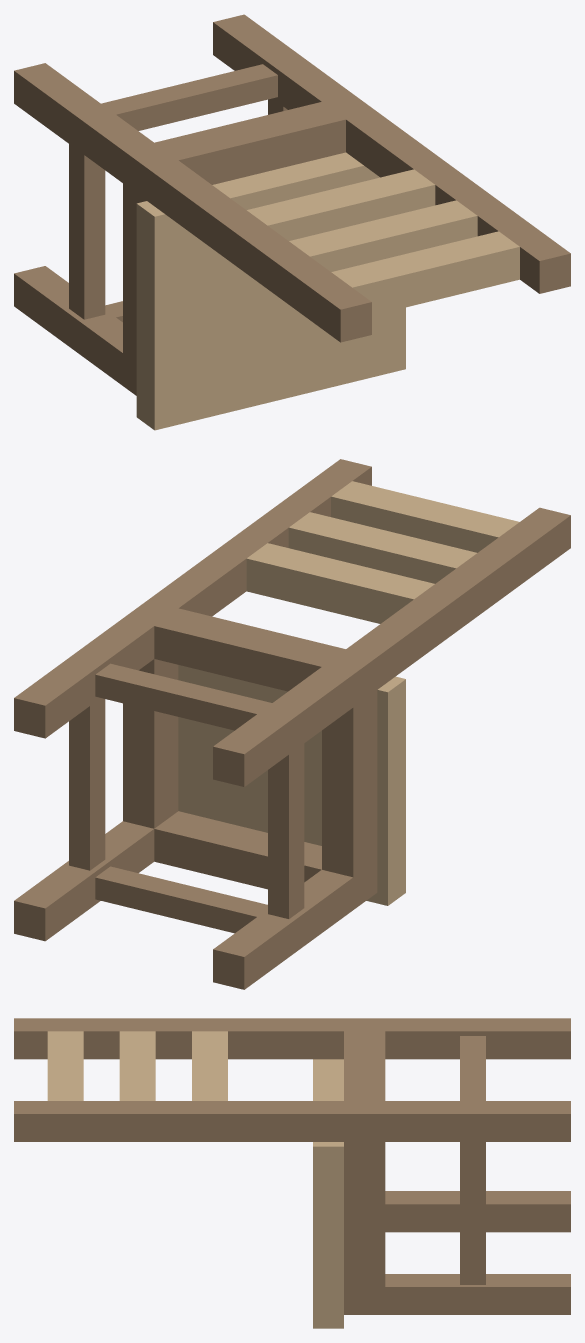
Rendered from Chair.glb.
3 views of the same model, one above another, from view 1: azimuth 30°, elevation 25°; view 2: azimuth 150°, elevation 25°; view 3: azimuth 270°, elevation 25° (orthographic). The views are drawn at different scales.
Visible parts, largest first — view 1: FTF_Interior_DiningChair_LadderBack_v2_Seat, FTF_Interior_DiningChair_LadderBack_v2_RearPostL, FTF_Interior_DiningChair_LadderBack_v2_RearPostR, FTF_Interior_DiningChair_LadderBack_v2_ApronBack, FTF_Interior_DiningChair_LadderBack_v2_BackSlatTop, FTF_Interior_DiningChair_LadderBack_v2_BackSlatLow, FTF_Interior_DiningChair_LadderBack_v2_BackSlatMid, FTF_Interior_DiningChair_LadderBack_v2_FrontLegL, FTF_Interior_DiningChair_LadderBack_v2_StretcherLeft, FTF_Interior_DiningChair_LadderBack_v2_StretcherBack, FTF_Interior_DiningChair_LadderBack_v2_ApronLeft; view 2: FTF_Interior_DiningChair_LadderBack_v2_RearPostL, FTF_Interior_DiningChair_LadderBack_v2_RearPostR, FTF_Interior_DiningChair_LadderBack_v2_Seat, FTF_Interior_DiningChair_LadderBack_v2_ApronLeft, FTF_Interior_DiningChair_LadderBack_v2_ApronBack, FTF_Interior_DiningChair_LadderBack_v2_BackSlatLow, FTF_Interior_DiningChair_LadderBack_v2_FrontLegL, FTF_Interior_DiningChair_LadderBack_v2_ApronRight, FTF_Interior_DiningChair_LadderBack_v2_BackSlatMid, FTF_Interior_DiningChair_LadderBack_v2_BackSlatTop, FTF_Interior_DiningChair_LadderBack_v2_ApronFront, FTF_Interior_DiningChair_LadderBack_v2_FrontLegR (+4 smaller); view 3: FTF_Interior_DiningChair_LadderBack_v2_RearPostR, FTF_Interior_DiningChair_LadderBack_v2_RearPostL, FTF_Interior_DiningChair_LadderBack_v2_FrontLegR, FTF_Interior_DiningChair_LadderBack_v2_Seat, FTF_Interior_DiningChair_LadderBack_v2_FrontLegL, FTF_Interior_DiningChair_LadderBack_v2_ApronRight, FTF_Interior_DiningChair_LadderBack_v2_StretcherRight, FTF_Interior_DiningChair_LadderBack_v2_ApronBack, FTF_Interior_DiningChair_LadderBack_v2_BackSlatMid, FTF_Interior_DiningChair_LadderBack_v2_BackSlatTop, FTF_Interior_DiningChair_LadderBack_v2_BackSlatLow, FTF_Interior_DiningChair_LadderBack_v2_StretcherBack.
Boxes of the visible parts, left/top/right/bottom form: FTF_Interior_DiningChair_LadderBack_v2_Seat: left=136, top=152, right=405, bottom=430; FTF_Interior_DiningChair_LadderBack_v2_RearPostL: left=14, top=63, right=371, bottom=342; FTF_Interior_DiningChair_LadderBack_v2_RearPostR: left=213, top=14, right=570, bottom=293; FTF_Interior_DiningChair_LadderBack_v2_ApronBack: left=154, top=102, right=345, bottom=184; FTF_Interior_DiningChair_LadderBack_v2_BackSlatTop: left=331, top=231, right=519, bottom=315; FTF_Interior_DiningChair_LadderBack_v2_BackSlatLow: left=247, top=169, right=435, bottom=240; FTF_Interior_DiningChair_LadderBack_v2_BackSlatMid: left=289, top=200, right=477, bottom=271; FTF_Interior_DiningChair_LadderBack_v2_FrontLegL: left=14, top=266, right=136, bottom=395; FTF_Interior_DiningChair_LadderBack_v2_StretcherLeft: left=69, top=144, right=105, bottom=319; FTF_Interior_DiningChair_LadderBack_v2_StretcherBack: left=101, top=64, right=277, bottom=130; FTF_Interior_DiningChair_LadderBack_v2_ApronLeft: left=123, top=183, right=146, bottom=362; FTF_Interior_DiningChair_LadderBack_v2_RearPostL: left=213, top=507, right=570, bottom=786; FTF_Interior_DiningChair_LadderBack_v2_RearPostR: left=14, top=459, right=371, bottom=738; FTF_Interior_DiningChair_LadderBack_v2_Seat: left=178, top=665, right=405, bottom=905; FTF_Interior_DiningChair_LadderBack_v2_ApronLeft: left=322, top=690, right=377, bottom=877; FTF_Interior_DiningChair_LadderBack_v2_ApronBack: left=154, top=608, right=345, bottom=691; FTF_Interior_DiningChair_LadderBack_v2_BackSlatLow: left=246, top=543, right=434, bottom=623; FTF_Interior_DiningChair_LadderBack_v2_FrontLegL: left=213, top=860, right=377, bottom=989; FTF_Interior_DiningChair_LadderBack_v2_ApronRight: left=123, top=659, right=178, bottom=828; FTF_Interior_DiningChair_LadderBack_v2_BackSlatMid: left=288, top=512, right=476, bottom=583; FTF_Interior_DiningChair_LadderBack_v2_BackSlatTop: left=331, top=481, right=519, bottom=552; FTF_Interior_DiningChair_LadderBack_v2_ApronFront: left=154, top=811, right=321, bottom=889; FTF_Interior_DiningChair_LadderBack_v2_FrontLegR: left=14, top=821, right=154, bottom=941; FTF_Interior_DiningChair_LadderBack_v2_RearPostR: left=14, top=1101, right=570, bottom=1141; FTF_Interior_DiningChair_LadderBack_v2_RearPostL: left=14, top=1018, right=570, bottom=1059; FTF_Interior_DiningChair_LadderBack_v2_FrontLegR: left=344, top=1274, right=570, bottom=1314; FTF_Interior_DiningChair_LadderBack_v2_Seat: left=313, top=1059, right=343, bottom=1328; FTF_Interior_DiningChair_LadderBack_v2_FrontLegL: left=385, top=1191, right=570, bottom=1232; FTF_Interior_DiningChair_LadderBack_v2_ApronRight: left=344, top=1142, right=385, bottom=1286; FTF_Interior_DiningChair_LadderBack_v2_StretcherRight: left=460, top=1142, right=485, bottom=1284; FTF_Interior_DiningChair_LadderBack_v2_ApronBack: left=344, top=1031, right=385, bottom=1100; FTF_Interior_DiningChair_LadderBack_v2_BackSlatMid: left=119, top=1031, right=155, bottom=1100; FTF_Interior_DiningChair_LadderBack_v2_BackSlatTop: left=47, top=1031, right=83, bottom=1100; FTF_Interior_DiningChair_LadderBack_v2_BackSlatLow: left=192, top=1031, right=227, bottom=1100; FTF_Interior_DiningChair_LadderBack_v2_StretcherBack: left=460, top=1036, right=485, bottom=1100.
Bounding box in the file's own units: 0.48 × 0.45 × 1.08.
